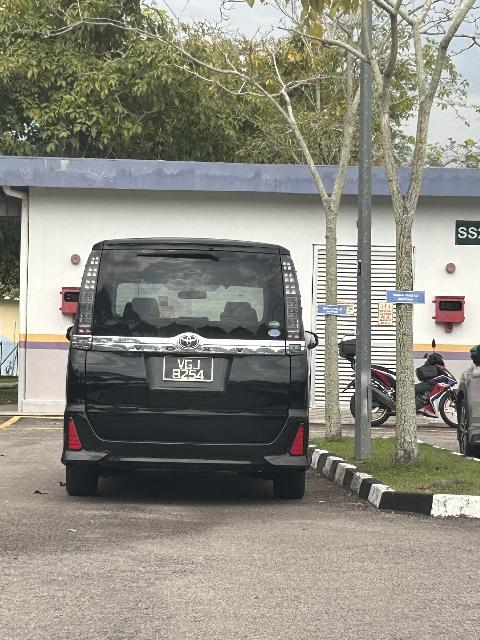License_Plate: (163, 358, 217, 384)
car: (60, 236, 317, 501)
